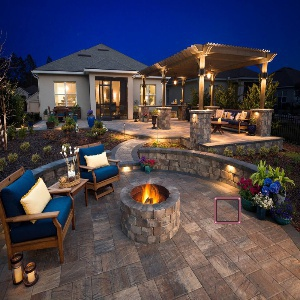square: (212, 195, 242, 225)
